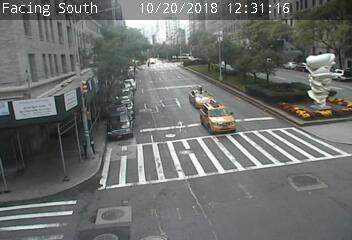car: (199, 105, 236, 132), (188, 90, 217, 107)
